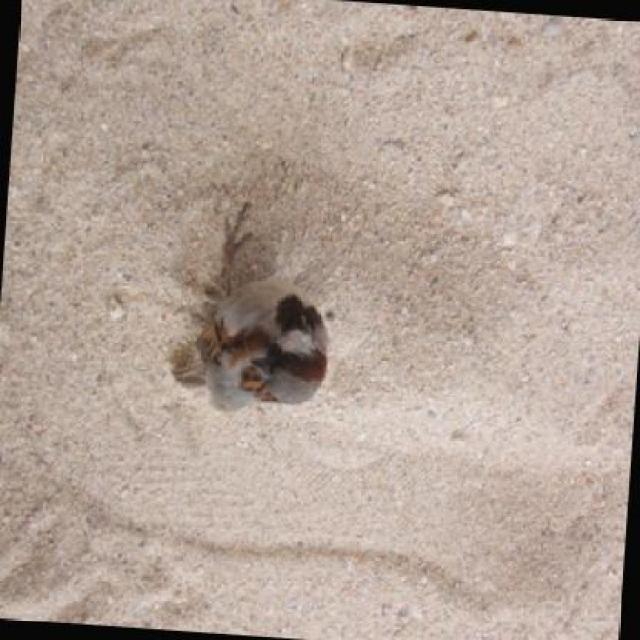Bird: (164, 207, 336, 424)
